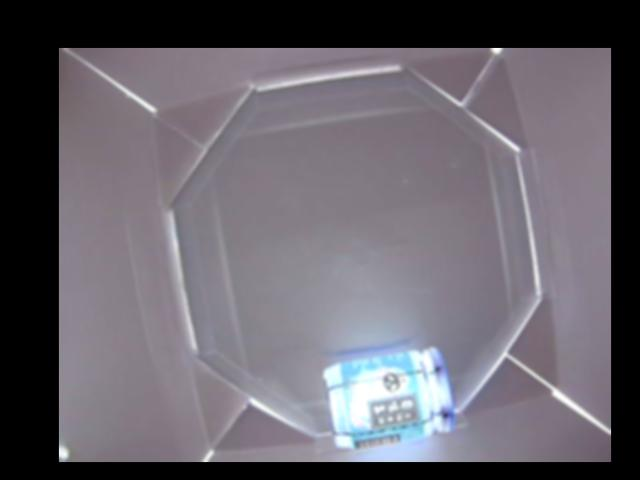Bottle: (320, 347, 454, 447)
